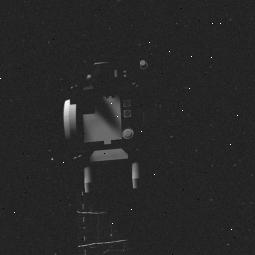proba_3_csc: (46, 45, 168, 255)
